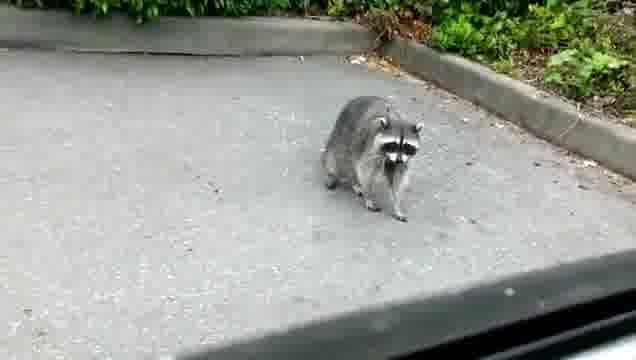raccoon: (320, 95, 428, 223)
